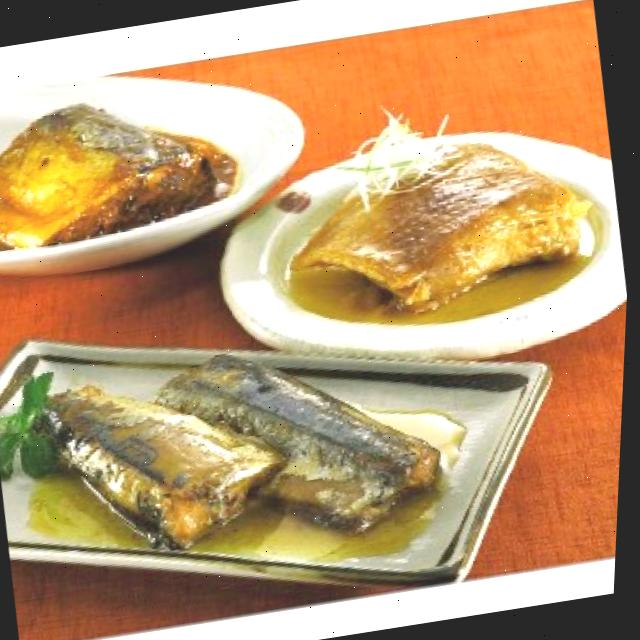熟制海鲜: (0, 7, 640, 602)
